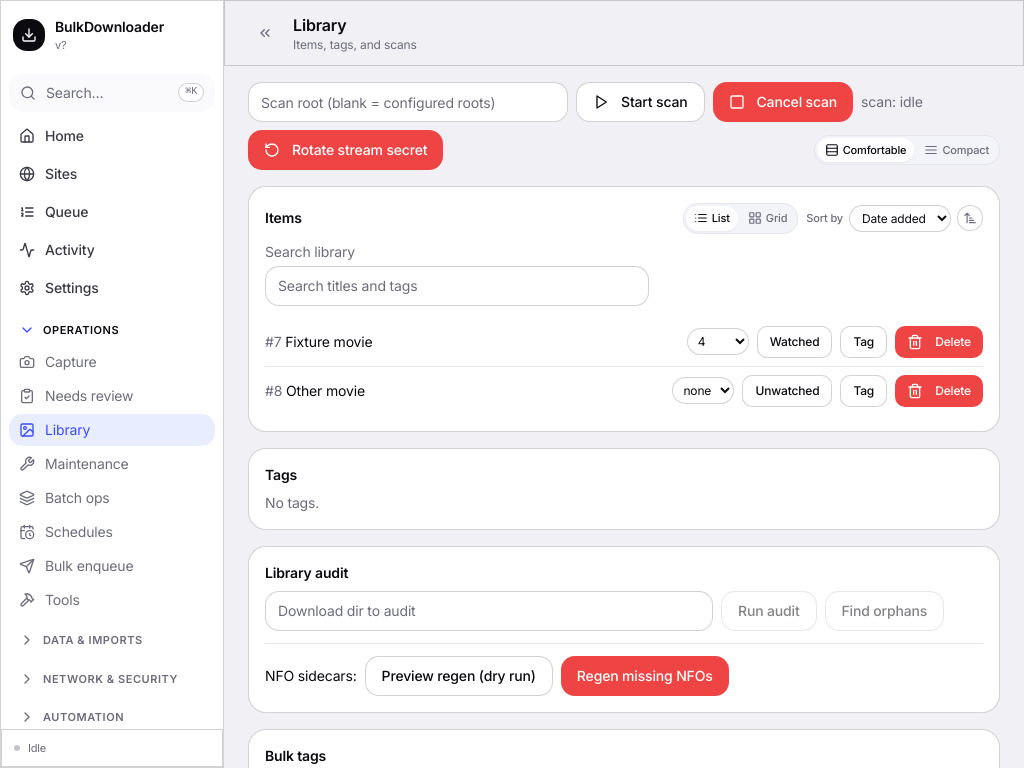
F019 Library item preview › opens a detail dialog for the clicked item title, read-only
Click the button "Fixture movie": (329, 342) [285, 332, 373, 352]
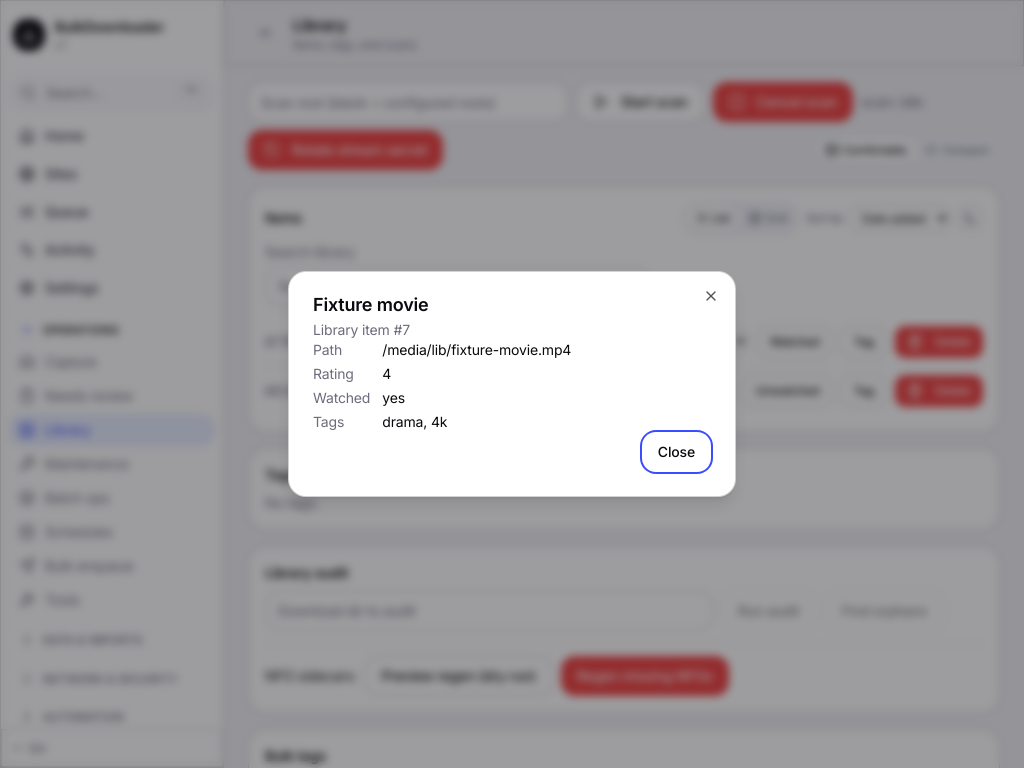
Check: the heading "Fixture movie" is shown, box [313, 294, 428, 315]
Check: the text "/media/lib/fixture-movie.mp4" is shown, box [382, 341, 571, 358]
Check: the text "drama, 4k" is shown, box [382, 413, 447, 430]
Click the button "Close": (676, 452) [642, 432, 711, 472]
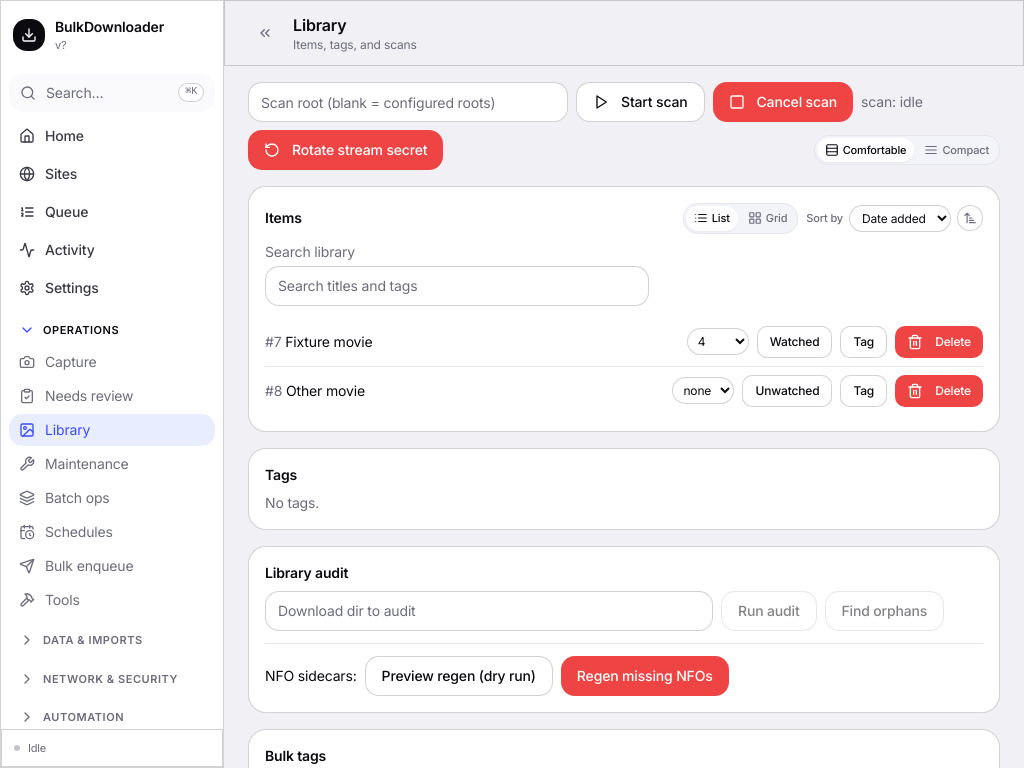
Check: the dialog is gone
